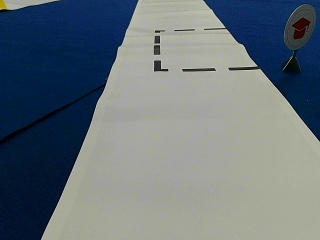school: (283, 3, 315, 49)
